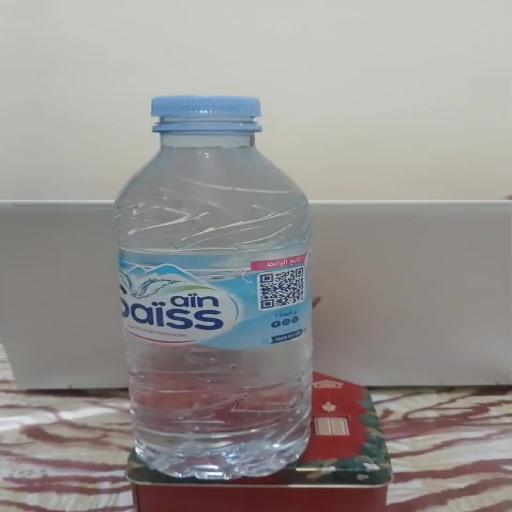bouteille non conformite: (93, 78, 305, 492), (122, 93, 282, 142)
